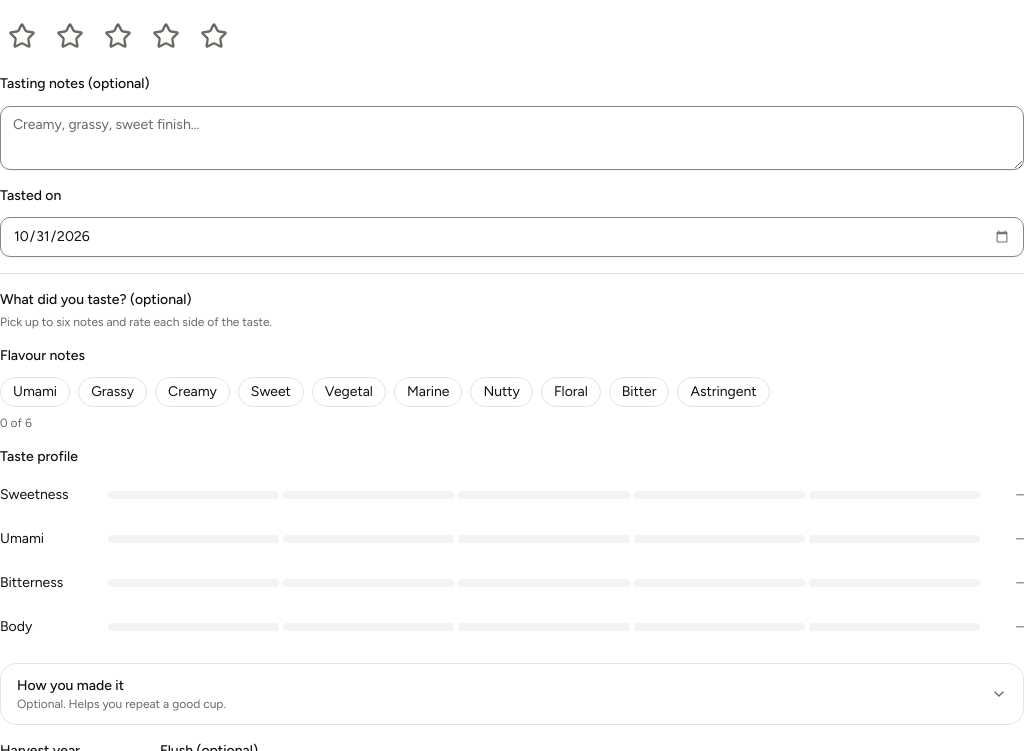
Scenario: RateProductForm, signed in › clears the prep fields after logging so a second log starts fresh
Step 1. Click the radio button named "4 stars" → [166, 36], box [144,14,188,58]
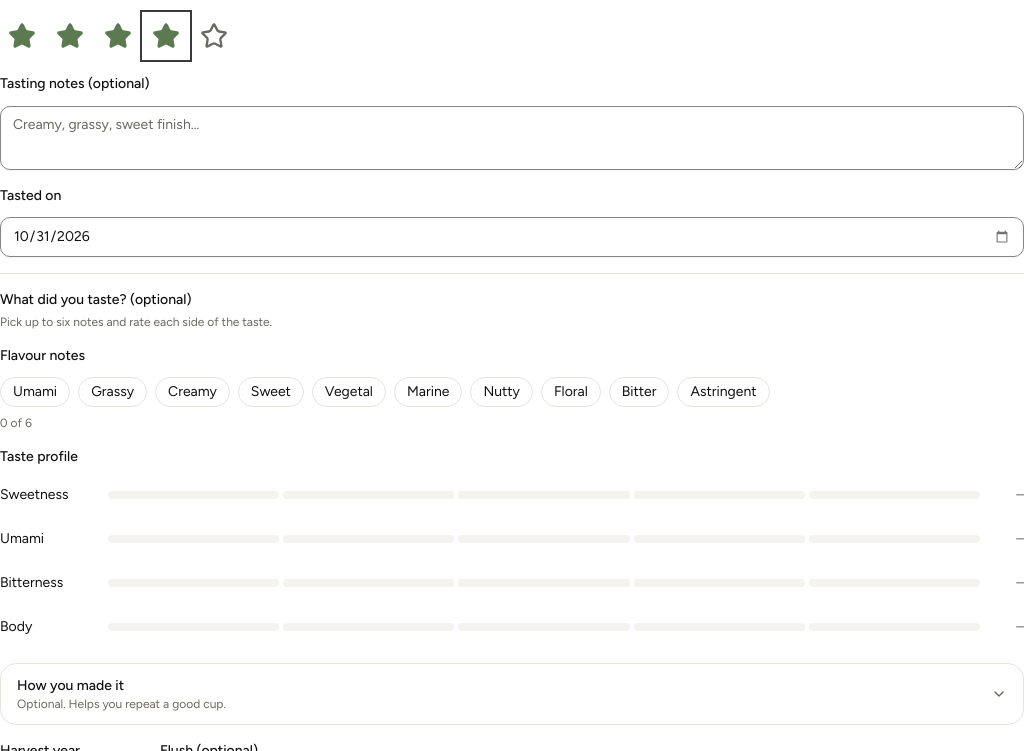
Step 2. Click the heading "How you made it" → [71, 686], box [17,677,1007,711]
(page scrolled)
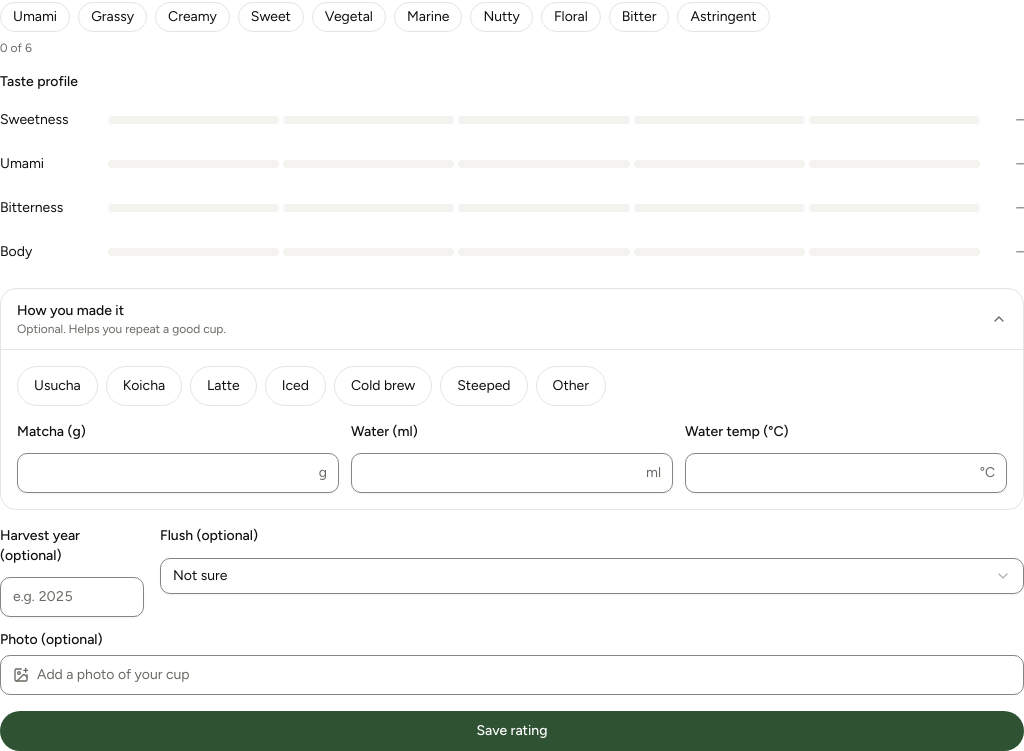
Step 3. Type "70" into the number field labelled "Water (ml)" → [512, 473], box [351,453,673,493]
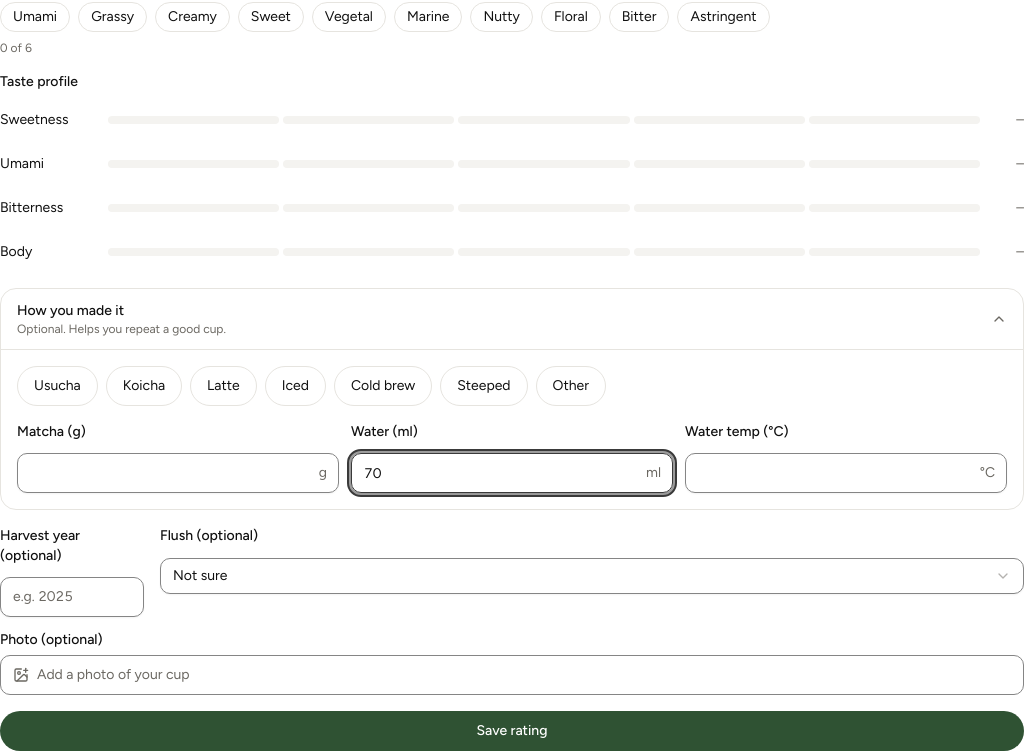
Step 4. Click the button "Save rating" → [512, 731], box [0,711,1023,750]
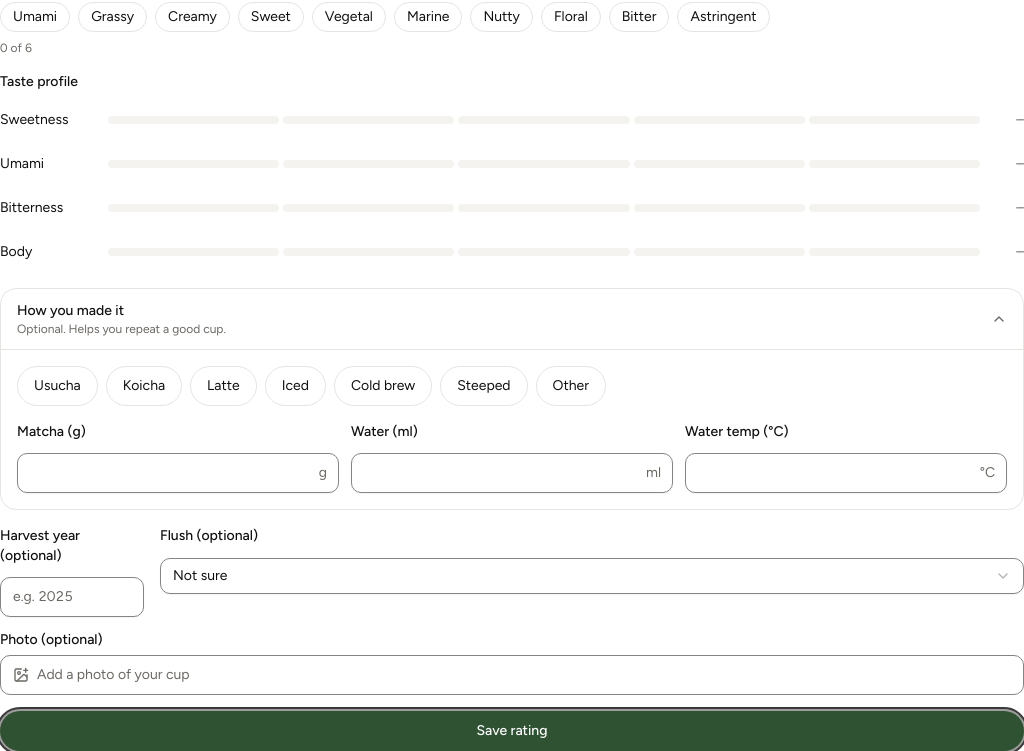
Expected: the number field labelled "Water (ml)" is not empty, [351,453,673,493]
